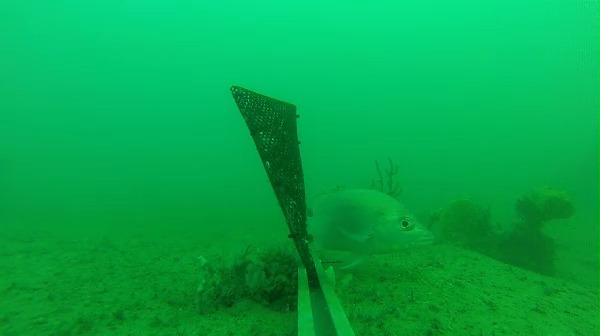fish: (309, 191, 435, 254)
